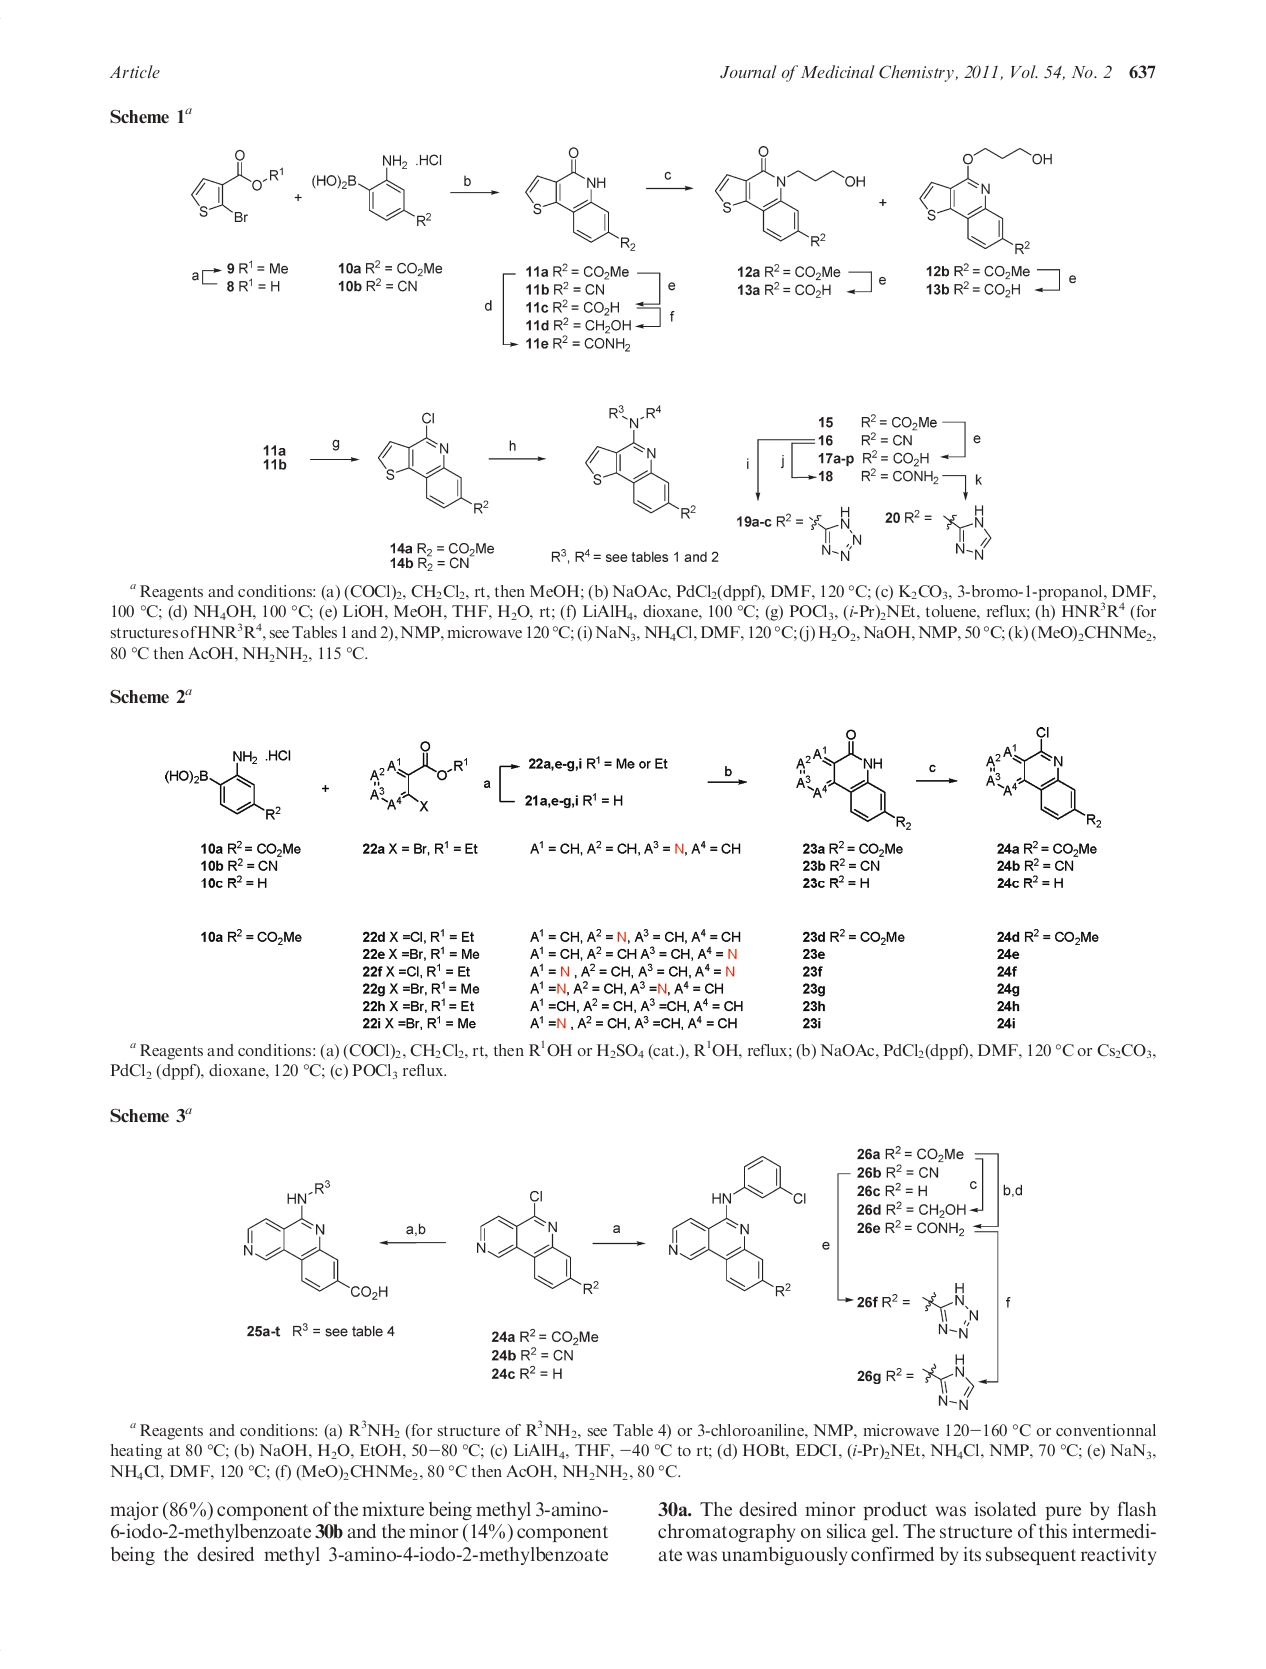exist_molecular: (661, 1152, 810, 1301), (241, 1174, 391, 1302), (711, 142, 868, 250), (918, 142, 1056, 255), (471, 1185, 605, 1298), (582, 402, 699, 521), (793, 726, 918, 833), (981, 722, 1104, 830), (523, 144, 637, 251), (374, 410, 491, 515), (160, 739, 295, 825), (309, 150, 445, 230), (364, 735, 473, 814), (188, 146, 286, 226), (918, 1278, 981, 1341), (939, 501, 997, 564), (805, 503, 864, 563), (919, 1350, 979, 1408)
